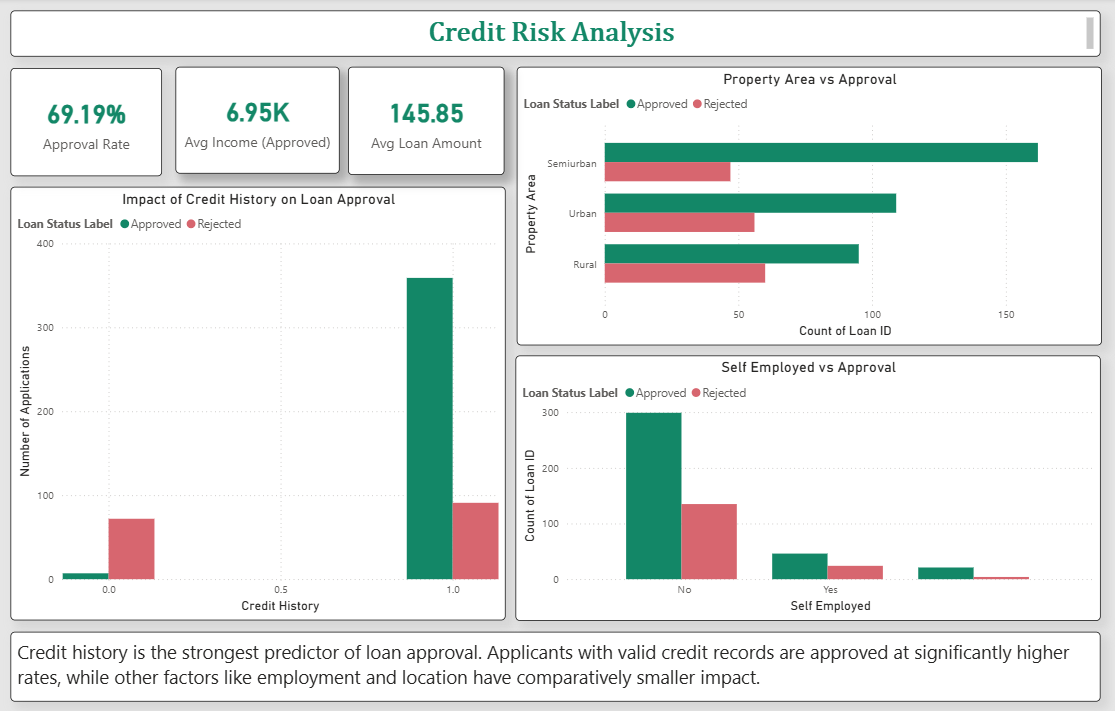

What the dashboard file says about the page in this screenshot:
{"tool":"powerbi","page":{"name":"Credit Risk Analysis","canvas":[1280,820],"ordinal":1},"visuals":[{"type":"textbox","box":[14.2,14.2,1249,52.7],"z":0},{"type":"clusteredColumnChart","title":"Impact of Credit History on Loan Approval","fields":{"Series":["loan_clean.Loan_Status_Label"],"Category":["loan_clean.Credit_History"],"Y":["CountNonNull(loan_clean.Loan_Amount_Term)"]},"box":[14.2,216.5,566.8,401.6],"z":1000},{"type":"clusteredBarChart","title":"Property Area vs Approval","fields":{"Category":["loan_clean.Property_Area"],"Y":["CountNonNull(loan_clean.Loan_ID)"],"Series":["loan_clean.Loan_Status_Label"]},"box":[593.9,78.3,670.8,250.6],"z":2000},{"type":"clusteredColumnChart","title":"Self Employed vs Approval","fields":{"Category":["loan_clean.Self_Employed"],"Series":["loan_clean.Loan_Status_Label"],"Y":["CountNonNull(loan_clean.Loan_ID)"]},"box":[592.4,338.9,670.8,279.1],"z":3000},{"type":"card","fields":{"Values":["loan_clean.Approval Rate"]},"box":[14.2,79.8,173.7,123.9],"z":4000},{"type":"card","fields":{"Values":["loan_clean.Avg Income Approved"]},"box":[203.7,78.3,188,122.5],"z":5000},{"type":"card","fields":{"Values":["loan_clean.Avg Loan Amount"]},"box":[401.6,78.3,179.4,123.9],"z":6000},{"type":"textbox","box":[14.2,628,1249,74.1],"z":8000}]}

Visuals, with their boxes in screenshot pixels (x1, y1, x2, y2), scaled from the page's 1280x820 canvas onto the 1115x711 screenshot:
textbox: box=[12, 12, 1100, 58]
"Impact of Credit History on Loan Approval" clusteredColumnChart: box=[12, 188, 506, 536]
"Property Area vs Approval" clusteredBarChart: box=[517, 68, 1102, 285]
"Self Employed vs Approval" clusteredColumnChart: box=[516, 294, 1100, 536]
card - loan_clean.Approval Rate: box=[12, 69, 164, 177]
card - loan_clean.Avg Income Approved: box=[177, 68, 341, 174]
card - loan_clean.Avg Loan Amount: box=[350, 68, 506, 175]
textbox: box=[12, 545, 1100, 609]
